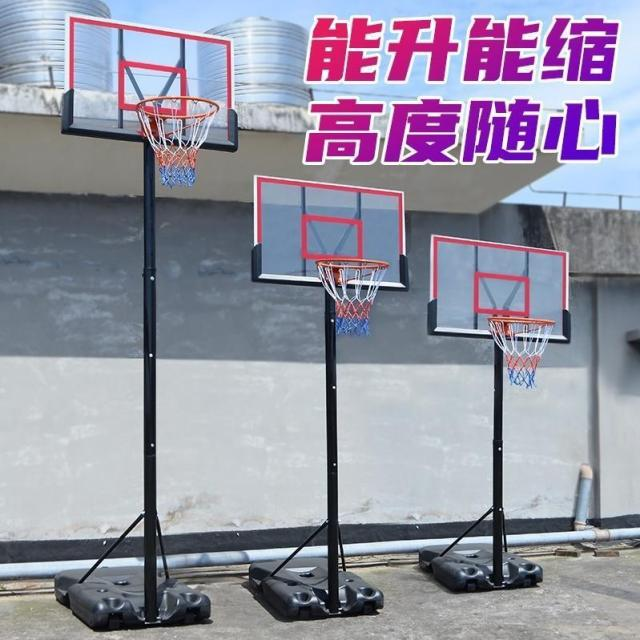rim: (132, 96, 220, 184), (314, 257, 389, 337), (484, 317, 557, 386)
